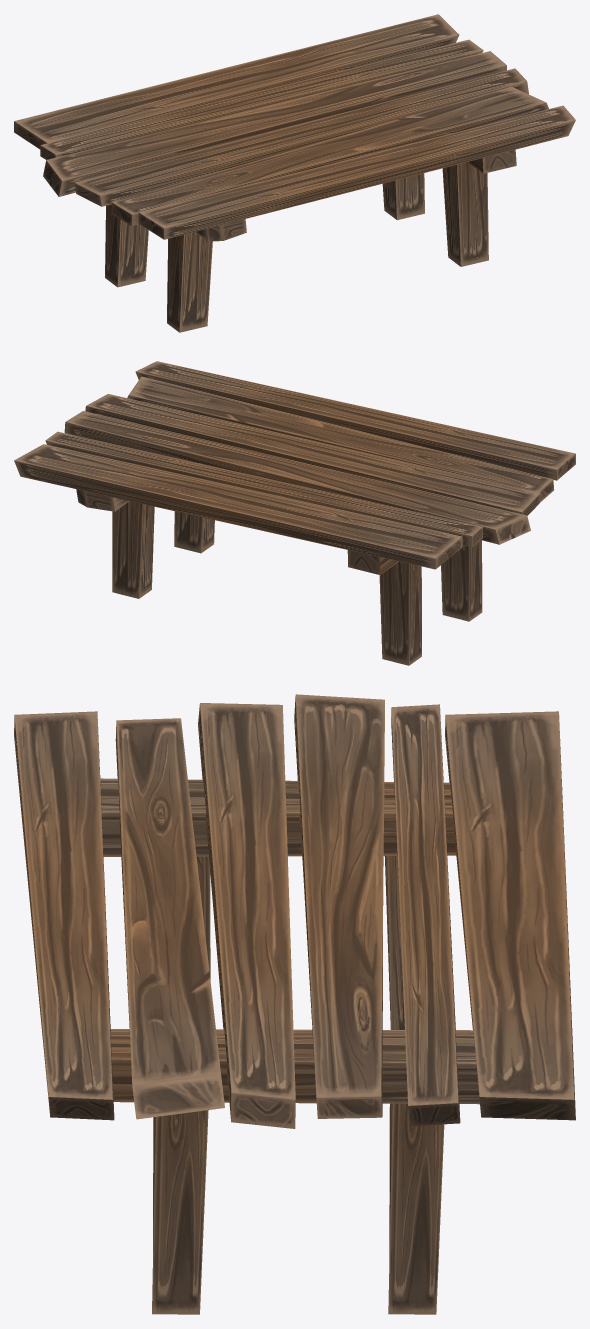
Rendered from tableWoodA.fbx.
The picture shows the model from 3 angles, top to bottom: view 1: azimuth 30°, elevation 25°; view 2: azimuth 150°, elevation 25°; view 3: azimuth 270°, elevation 25°; orthographic projection. The views are drawn at different scales.
Visible parts, largest first — view 1: tableWoodA; view 2: tableWoodA; view 3: tableWoodA.
Part boxes in pixels (<box>): tableWoodA: <box>14,14,575,332</box>; tableWoodA: <box>14,361,575,665</box>; tableWoodA: <box>14,694,575,1314</box>.
Bounding box in the file's own units: 350 × 109 × 201.
Materials: 1 (1 with a texture image).
